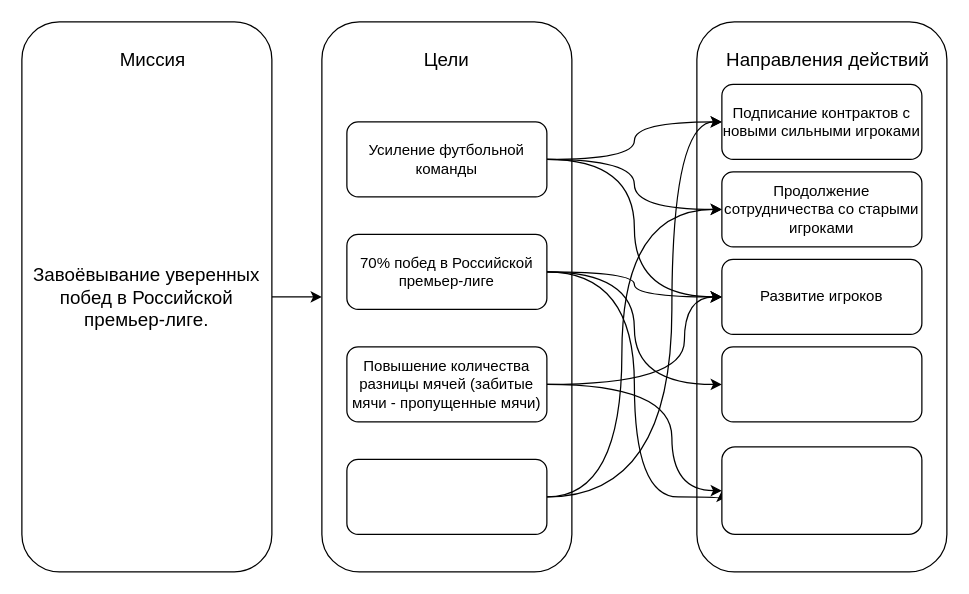
The diagram is 969 pixels wide and 594 high, and some of its shapes have lost their labels. The shapes that lost their labels are listed below. From the top down, each one's centre as x and y in pixels, then its label:
At point (821, 384): "Проведение мероприятий по анализу сыгранных матче".
At point (446, 496): "Победа в Российской преьер-лиге".
At point (821, 490): "Проведение мероприятий по анализу индивидуальных показателей каждого игрока".
